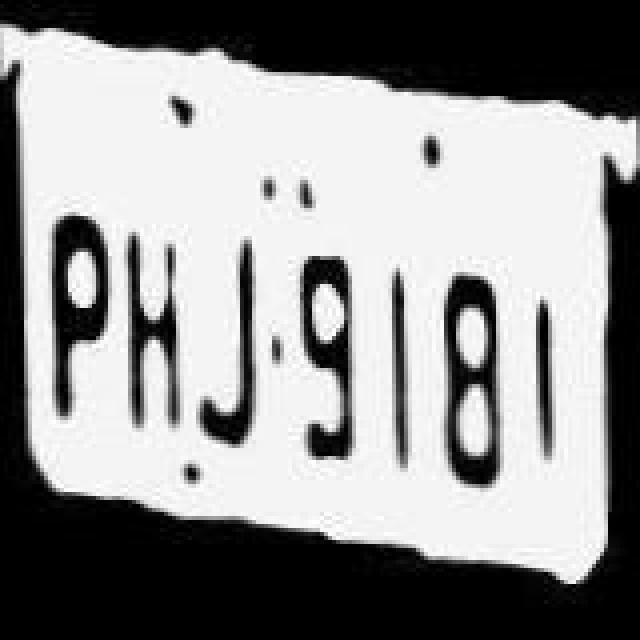1: (526, 252, 590, 500), (382, 248, 438, 508)
8: (430, 224, 514, 516)
9: (294, 248, 382, 512)
H: (108, 198, 196, 450)
J: (190, 228, 274, 464)
P: (34, 180, 118, 436)
